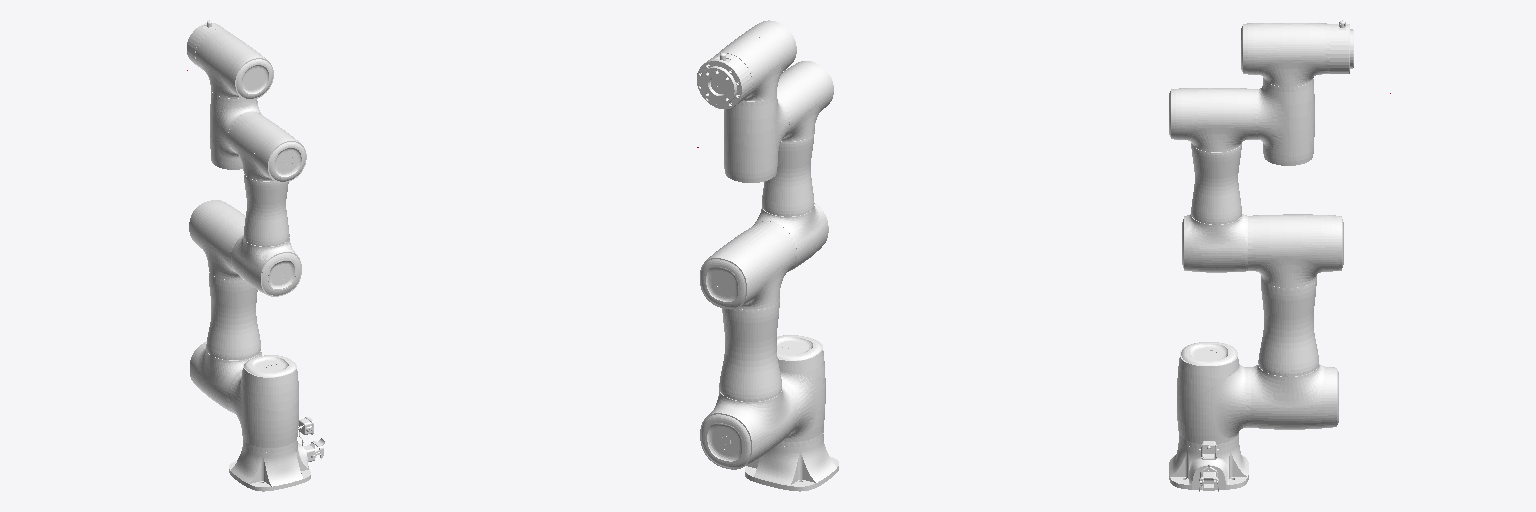
URDF robot description (cr3_robot):
<?xml version="1.0" ?>
<robot name="cr3_robot">
	<link name="world">
		<inertial>
			<origin rpy="0.00000 -0.00000 0.00000" xyz="0.00000 0.00000 0.00000"/>
			<mass value="0.00000"/>
			<inertia ixx="0.00000" ixy="0" ixz="0" iyy="0.00000" iyz="0" izz="0.00000"/>
		</inertial>
	</link>
	<link name="base_link">
		<inertial>
			<origin rpy="0.00000 -0.00000 0.00000" xyz="-0.00272 0.00000 0.02204"/>
			<mass value="0.65300"/>
			<inertia ixx="0.00150" ixy="0" ixz="0" iyy="0.00228" iyz="0" izz="0.00280"/>
		</inertial>
		<visual>
			<origin rpy="0.00000 -0.00000 0.00000" xyz="0.00000 0.00000 0.00000"/>
			<geometry>
				<mesh filename="../robot_arm_assets/cr3/meshes/base_link.STL" scale="1.00000 1.00000 1.00000"/>
			</geometry>
			<material name="mat_0">
				<color rgba="1.00000 1.00000 1.00000 1.00000" />
			</material>
		</visual>
		<collision>
			<origin rpy="0.00000 -0.00000 0.00000" xyz="0.00000 0.00000 0.00000"/>
			<geometry>
				<mesh filename="../robot_arm_assets/cr3/meshes/base_link.STL" scale="1.00000 1.00000 1.00000"/>
			</geometry>
		</collision>
	</link>
	<link name="Link1">
		<inertial>
			<origin rpy="0.00000 -0.00000 0.00000" xyz="-0.00004 -0.00395 0.00364"/>
			<mass value="1.31101"/>
			<inertia ixx="0.00417" ixy="0" ixz="0" iyy="0.00400" iyz="0" izz="0.00282"/>
		</inertial>
		<visual>
			<origin rpy="0.00000 -0.00000 0.00000" xyz="0.00000 0.00000 0.00000"/>
			<geometry>
				<mesh filename="../robot_arm_assets/cr3/meshes/Link1.STL" scale="1.00000 1.00000 1.00000"/>
			</geometry>
			<material name="mat_1">
				<color rgba="1.00000 1.00000 1.00000 1.00000" />
			</material>
		</visual>
		<collision>
			<origin rpy="0.00000 -0.00000 0.00000" xyz="0.00000 0.00000 0.00000"/>
			<geometry>
				<mesh filename="../robot_arm_assets/cr3/meshes/Link1.STL" scale="1.00000 1.00000 1.00000"/>
			</geometry>
		</collision>
	</link>
	<link name="Link2">
		<inertial>
			<origin rpy="0.00000 -0.00000 0.00000" xyz="-0.12924 0.00001 0.13317"/>
			<mass value="3.40044"/>
			<inertia ixx="0.01108" ixy="0" ixz="0" iyy="0.04822" iyz="0" izz="0.04400"/>
		</inertial>
		<visual>
			<origin rpy="0.00000 -0.00000 0.00000" xyz="0.00000 0.00000 0.00000"/>
			<geometry>
				<mesh filename="../robot_arm_assets/cr3/meshes/Link2.STL" scale="1.00000 1.00000 1.00000"/>
			</geometry>
			<material name="mat_2">
				<color rgba="1.00000 1.00000 1.00000 1.00000" />
			</material>
		</visual>
		<collision>
			<origin rpy="0.00000 -0.00000 0.00000" xyz="0.00000 0.00000 0.00000"/>
			<geometry>
				<mesh filename="../robot_arm_assets/cr3/meshes/Link2.STL" scale="1.00000 1.00000 1.00000"/>
			</geometry>
		</collision>
	</link>
	<link name="Link3">
		<inertial>
			<origin rpy="0.00000 -0.00000 0.00000" xyz="-0.11982 0.00000 0.00999"/>
			<mass value="2.21449"/>
			<inertia ixx="0.00597" ixy="0" ixz="0" iyy="0.02366" iyz="0" izz="0.02138"/>
		</inertial>
		<visual>
			<origin rpy="0.00000 -0.00000 0.00000" xyz="0.00000 0.00000 0.00000"/>
			<geometry>
				<mesh filename="../robot_arm_assets/cr3/meshes/Link3.STL" scale="1.00000 1.00000 1.00000"/>
			</geometry>
			<material name="mat_3">
				<color rgba="1.00000 1.00000 1.00000 1.00000" />
			</material>
		</visual>
		<collision>
			<origin rpy="0.00000 -0.00000 0.00000" xyz="0.00000 0.00000 0.00000"/>
			<geometry>
				<mesh filename="../robot_arm_assets/cr3/meshes/Link3.STL" scale="1.00000 1.00000 1.00000"/>
			</geometry>
		</collision>
	</link>
	<link name="Link4">
		<inertial>
			<origin rpy="0.00000 -0.00000 0.00000" xyz="0.00000 0.00345 -0.00287"/>
			<mass value="0.84227"/>
			<inertia ixx="0.00223" ixy="0" ixz="0" iyy="0.00124" iyz="0" izz="0.00215"/>
		</inertial>
		<visual>
			<origin rpy="0.00000 -0.00000 0.00000" xyz="0.00000 0.00000 0.00000"/>
			<geometry>
				<mesh filename="../robot_arm_assets/cr3/meshes/Link4.STL" scale="1.00000 1.00000 1.00000"/>
			</geometry>
			<material name="mat_4">
				<color rgba="1.00000 1.00000 1.00000 1.00000" />
			</material>
		</visual>
		<collision>
			<origin rpy="0.00000 -0.00000 0.00000" xyz="0.00000 0.00000 0.00000"/>
			<geometry>
				<mesh filename="../robot_arm_assets/cr3/meshes/Link4.STL" scale="1.00000 1.00000 1.00000"/>
			</geometry>
		</collision>
	</link>
	<link name="Link5">
		<inertial>
			<origin rpy="0.00000 -0.00000 0.00000" xyz="-0.00000 -0.00333 -0.00287"/>
			<mass value="0.84369"/>
			<inertia ixx="0.00224" ixy="0" ixz="0" iyy="0.00125" iyz="0" izz="0.00216"/>
		</inertial>
		<visual>
			<origin rpy="0.00000 -0.00000 0.00000" xyz="0.00000 0.00000 0.00000"/>
			<geometry>
				<mesh filename="../robot_arm_assets/cr3/meshes/Link5.STL" scale="1.00000 1.00000 1.00000"/>
			</geometry>
			<material name="mat_5">
				<color rgba="1.00000 1.00000 1.00000 1.00000" />
			</material>
		</visual>
		<collision>
			<origin rpy="0.00000 -0.00000 0.00000" xyz="0.00000 0.00000 0.00000"/>
			<geometry>
				<mesh filename="../robot_arm_assets/cr3/meshes/Link5.STL" scale="1.00000 1.00000 1.00000"/>
			</geometry>
		</collision>
	</link>
	<link name="Link6">
		<inertial>
			<origin rpy="0.00000 -0.00000 0.00000" xyz="-0.00000 0.00027 -0.02014"/>
			<mass value="0.15941"/>
			<inertia ixx="0.00015" ixy="0" ixz="0" iyy="0.00013" iyz="0" izz="0.00023"/>
		</inertial>
		<visual>
			<origin rpy="0.00000 -0.00000 0.00000" xyz="0.00000 0.00000 0.00000"/>
			<geometry>
				<mesh filename="../robot_arm_assets/cr3/meshes/Link6.STL" scale="1.00000 1.00000 1.00000"/>
			</geometry>
			<material name="mat_6">
				<color rgba="1.00000 1.00000 1.00000 1.00000" />
			</material>
		</visual>
		<collision>
			<origin rpy="0.00000 -0.00000 0.00000" xyz="0.00000 0.00000 0.00000"/>
			<geometry>
				<mesh filename="../robot_arm_assets/cr3/meshes/Link6.STL" scale="1.00000 1.00000 1.00000"/>
			</geometry>
		</collision>
	</link>
	<link name="ee_link">
		<inertial>
			<origin rpy="-3.14000 -0.00000 1.57000" xyz="0.00000 0.00000 0.00000"/>
			<mass value="0.00000"/>
			<inertia ixx="0.00000" ixy="0" ixz="0" iyy="0.00000" iyz="0" izz="0.00000"/>
		</inertial>
		<visual>
			<origin rpy="0.00000 -0.00000 0.00000" xyz="0.00000 0.00000 0.00000"/>
			<geometry>
				<sphere radius="0.00100"/>
			</geometry>
			<material name="mat_7">
				<color rgba="1.00000 1.00000 1.00000 1.00000" />
			</material>
		</visual>
		<collision>
			<origin rpy="0.00000 -0.00000 0.00000" xyz="0.00000 0.00000 0.00000"/>
			<geometry>
				<sphere radius="0.00100"/>
			</geometry>
		</collision>
	</link>
	<link name="tactip_adapter_link">
		<inertial>
			<origin rpy="0.00000 -0.00000 0.00000" xyz="0.00000 0.00000 0.00000"/>
			<mass value="0.10000"/>
			<inertia ixx="0.00009" ixy="0" ixz="0" iyy="0.00014" iyz="0" izz="0.00015"/>
		</inertial>
		<visual>
			<origin rpy="0.00000 -0.00000 0.00000" xyz="0.00000 0.00000 0.00000"/>
			<geometry>
				<mesh filename="../sensor_assets/right_angle_tactip/adapter/right_angle_adapter.obj" scale="1.00000 1.00000 1.00000"/>
			</geometry>
			<material name="mat_8">
				<color rgba="0.80000 0.80000 0.80000 1.00000" />
			</material>
		</visual>
		<collision>
			<origin rpy="0.00000 -0.00000 0.00000" xyz="0.00000 0.00000 0.00000"/>
			<geometry>
				<mesh filename="../sensor_assets/right_angle_tactip/adapter/right_angle_adapter.obj" scale="1.00000 1.00000 1.00000"/>
			</geometry>
		</collision>
	</link>
	<link name="tactip_body_link">
		<inertial>
			<origin rpy="0.00000 -0.00000 0.00000" xyz="0.00000 0.00000 0.00000"/>
			<mass value="0.25000"/>
			<inertia ixx="0.00022" ixy="0" ixz="0" iyy="0.00021" iyz="0" izz="0.00021"/>
		</inertial>
		<visual>
			<origin rpy="0.00000 -0.00000 0.00000" xyz="0.00000 0.00000 0.00000"/>
			<geometry>
				<mesh filename="../sensor_assets/right_angle_tactip/../standard_tactip/body/tactip_body.obj" scale="1.00000 1.00000 1.00000"/>
			</geometry>
			<material name="mat_9">
				<color rgba="0.80000 0.80000 0.80000 1.00000" />
			</material>
		</visual>
		<collision>
			<origin rpy="0.00000 -0.00000 0.00000" xyz="0.00000 0.00000 0.00000"/>
			<geometry>
				<mesh filename="../sensor_assets/right_angle_tactip/../standard_tactip/body/tactip_body.obj" scale="1.00000 1.00000 1.00000"/>
			</geometry>
		</collision>
	</link>
	<link name="tactip_tip_link">
		<inertial>
			<origin rpy="0.00000 -0.00000 0.00000" xyz="0.00000 0.00000 0.00000"/>
			<mass value="0.10000"/>
			<inertia ixx="0.00002" ixy="0" ixz="0" iyy="0.00003" iyz="0" izz="0.00002"/>
		</inertial>
		<visual>
			<origin rpy="0.00000 -0.00000 0.00000" xyz="0.00000 0.00000 0.00000"/>
			<geometry>
				<mesh filename="../sensor_assets/right_angle_tactip/../standard_tactip/tip/skin.obj" scale="1.00000 1.00000 1.00000"/>
			</geometry>
			<material name="mat_10">
				<color rgba="0.00000 0.00000 0.00000 1.00000" />
			</material>
		</visual>
		<collision>
			<origin rpy="0.00000 -0.00000 0.00000" xyz="0.00000 0.00000 0.00000"/>
			<geometry>
				<mesh filename="../sensor_assets/right_angle_tactip/../standard_tactip/tip/core.obj" scale="1.00000 1.00000 1.00000"/>
			</geometry>
		</collision>
	</link>
	<link name="tcp_link">
		<inertial>
			<origin rpy="0.00000 -1.57080 0.00000" xyz="0.00000 0.00000 0.00000"/>
			<mass value="0.00000"/>
			<inertia ixx="0.00000" ixy="0" ixz="0" iyy="0.00000" iyz="0" izz="0.00000"/>
		</inertial>
		<visual>
			<origin rpy="0.00000 -0.00000 0.00000" xyz="0.00000 0.00000 0.00000"/>
			<geometry>
				<sphere radius="0.00100"/>
			</geometry>
			<material name="mat_11">
				<color rgba="0.90000 0.00000 0.20000 0.50000" />
			</material>
		</visual>
	</link>
	<joint name="world_joint" type="fixed">
		<parent link="world"/>
		<child link="base_link"/>
		<dynamics damping="1.0" friction="0.0001"/>
		<origin rpy="0.00000 -0.00000 -3.14000" xyz="0.00000 0.00000 0.00000"/>
		<axis xyz="0.00000 0.00000 0.00000"/>
	</joint>
	<joint name="joint1" type="revolute">
		<parent link="base_link"/>
		<child link="Link1"/>
		<limit effort="0.00000" lower="-3.14000" upper="3.14000" velocity="0.00000"/>
		<dynamics damping="1.0" friction="0.0001"/>
		<origin rpy="0.00000 -0.00000 0.00000" xyz="0.00000 0.00000 0.12830"/>
		<axis xyz="0.00000 0.00000 1.00000"/>
	</joint>
	<joint name="joint2" type="revolute">
		<parent link="Link1"/>
		<child link="Link2"/>
		<limit effort="0.00000" lower="-3.14000" upper="3.14000" velocity="0.00000"/>
		<dynamics damping="1.0" friction="0.0001"/>
		<origin rpy="0.00000 1.57080 4.71239" xyz="0.00000 0.00000 0.00000"/>
		<axis xyz="0.00000 0.00000 1.00000"/>
	</joint>
	<joint name="joint3" type="revolute">
		<parent link="Link2"/>
		<child link="Link3"/>
		<limit effort="0.00000" lower="-2.86000" upper="2.86000" velocity="0.00000"/>
		<dynamics damping="1.0" friction="0.0001"/>
		<origin rpy="0.00000 -0.00000 0.00000" xyz="-0.27400 0.00000 0.00000"/>
		<axis xyz="0.00000 0.00000 1.00000"/>
	</joint>
	<joint name="joint4" type="revolute">
		<parent link="Link3"/>
		<child link="Link4"/>
		<limit effort="0.00000" lower="-3.14000" upper="3.14000" velocity="0.00000"/>
		<dynamics damping="1.0" friction="0.0001"/>
		<origin rpy="0.00000 0.00000 -1.57080" xyz="-0.23000 0.00000 0.12830"/>
		<axis xyz="0.00000 0.00000 1.00000"/>
	</joint>
	<joint name="joint5" type="revolute">
		<parent link="Link4"/>
		<child link="Link5"/>
		<limit effort="0.00000" lower="-3.14000" upper="3.14000" velocity="0.00000"/>
		<dynamics damping="1.0" friction="0.0001"/>
		<origin rpy="1.57080 -0.00000 0.00000" xyz="0.00000 -0.11600 0.00000"/>
		<axis xyz="0.00000 0.00000 1.00000"/>
	</joint>
	<joint name="joint6" type="revolute">
		<parent link="Link5"/>
		<child link="Link6"/>
		<limit effort="0.00000" lower="-6.28000" upper="6.28000" velocity="0.00000"/>
		<dynamics damping="1.0" friction="0.0001"/>
		<origin rpy="-1.57080 0.00000 0.00000" xyz="0.00000 0.10500 0.00000"/>
		<axis xyz="0.00000 0.00000 1.00000"/>
	</joint>
	<joint name="ee_joint" type="fixed">
		<parent link="Link6"/>
		<child link="ee_link"/>
		<dynamics damping="1.0" friction="0.0001"/>
		<origin rpy="3.14000 -0.00000 -0.00000" xyz="0.00000 0.00000 0.00000"/>
		<axis xyz="0.00000 0.00000 0.00000"/>
	</joint>
	<joint name="joint_dummy1" type="fixed">
		<parent link="ee_link"/>
		<child link="tactip_adapter_link"/>
		<dynamics damping="1.0" friction="0.0001"/>
		<origin rpy="-1.57080 -1.57080 3.14159" xyz="0.00000 0.00500 -0.06000"/>
		<axis xyz="0.00000 0.00000 1.00000"/>
	</joint>
	<joint name="tactip_body_to_adapter" type="fixed">
		<parent link="tactip_adapter_link"/>
		<child link="tactip_body_link"/>
		<dynamics damping="1.0" friction="0.0001"/>
		<origin rpy="0.00000 -0.00000 0.00000" xyz="0.00000 0.00000 0.00000"/>
		<axis xyz="0.00000 0.00000 0.00000"/>
	</joint>
	<joint name="tactip_tip_to_body" type="fixed">
		<parent link="tactip_body_link"/>
		<child link="tactip_tip_link"/>
		<dynamics damping="1.0" friction="0.0001"/>
		<origin rpy="1.57000 -0.00000 0.00000" xyz="0.00000 0.00000 0.06500"/>
		<axis xyz="0.00000 0.00000 0.00000"/>
	</joint>
	<joint name="tcp_joint" type="fixed">
		<parent link="tactip_body_link"/>
		<child link="tcp_link"/>
		<dynamics damping="1.0" friction="0.0001"/>
		<origin rpy="0.00000 -0.00000 0.00000" xyz="0.00000 0.00000 0.08500"/>
		<axis xyz="0.00000 0.00000 0.00000"/>
	</joint>
</robot>

--- What the picture shows (computed from the rendered views, not written in the file) ---
Views: 3 orthographic renders of the robot side by side, from view 1: azimuth 30°, elevation 25°; view 2: azimuth 150°, elevation 25°; view 3: azimuth 270°, elevation 25°.
Robot: cr3_robot — 13 links, 12 joints (6 revolute, 6 fixed); root link world; default pose: every joint at zero.
Links seen in each view (by area): view 1: Link3, Link2, Link1, Link5, base_link, Link4; view 2: Link2, Link3, Link4, Link1, Link5, base_link, Link6; view 3: Link2, Link3, Link1, Link5, Link4, base_link, Link6.
Boxes of the visible links, left/top/right/bottom form: Link3: left=228, top=112, right=306, bottom=296; Link2: left=189, top=200, right=261, bottom=413; Link1: left=230, top=355, right=298, bottom=452; Link5: left=195, top=29, right=273, bottom=99; base_link: left=229, top=417, right=325, bottom=491; Link4: left=210, top=91, right=261, bottom=169; Link2: left=700, top=221, right=799, bottom=469; Link3: left=753, top=61, right=833, bottom=270; Link4: left=724, top=93, right=789, bottom=182; Link1: left=777, top=335, right=825, bottom=446; Link5: left=716, top=20, right=796, bottom=100; base_link: left=745, top=433, right=838, bottom=491; Link6: left=697, top=53, right=751, bottom=109; Link2: left=1246, top=214, right=1343, bottom=429; Link3: left=1169, top=88, right=1257, bottom=272; Link1: left=1177, top=342, right=1245, bottom=448; Link5: left=1241, top=23, right=1329, bottom=86; Link4: left=1258, top=78, right=1314, bottom=165; base_link: left=1169, top=440, right=1248, bottom=491; Link6: left=1330, top=20, right=1353, bottom=73.
Bounding box of the posed robot: 0.1753 × 0.3592 × 0.8041 m (x, y, z).
Meshes: 10 distinct files referenced, 7 mesh visuals loaded (7 binary STL); not drawn: 3 (reference not matched to a file when rendering).